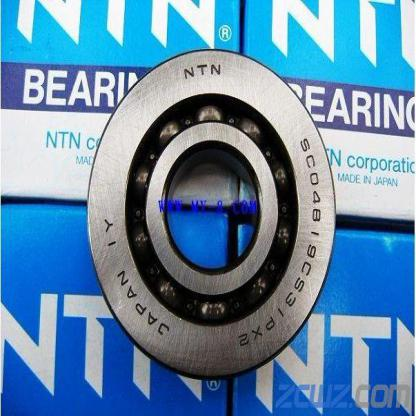FOD: (80, 45, 341, 388)
